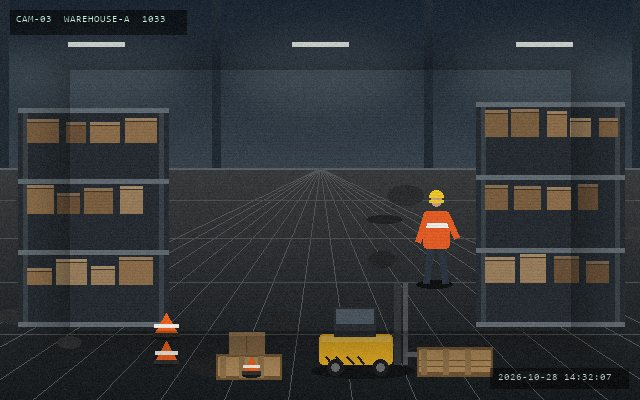cone: (152, 311, 180, 339), (153, 339, 179, 366), (241, 355, 261, 377)
forklift: (315, 281, 432, 378)
pallet: (415, 345, 494, 378), (214, 352, 283, 381)
person: (415, 188, 458, 287)
shelf: (476, 102, 624, 322), (18, 108, 168, 322)
